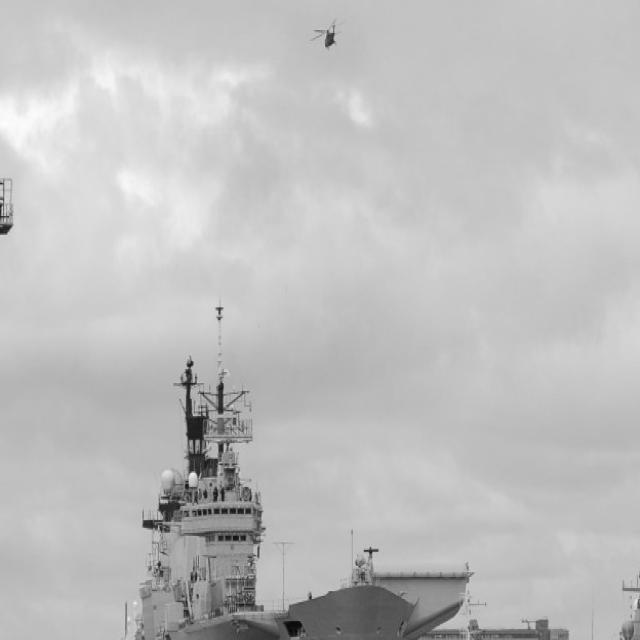Portanaves: (93, 294, 479, 640)
